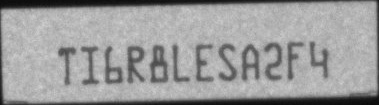2: (262, 39, 283, 81)
4: (310, 41, 329, 80)
6: (102, 45, 123, 85)
8: (150, 43, 168, 82)
A: (242, 42, 260, 81)
E: (195, 43, 215, 82)
F: (287, 38, 303, 81)
I: (81, 44, 99, 84)
L: (172, 43, 190, 82)
R: (127, 45, 146, 83)
S: (218, 42, 237, 82)
T: (57, 47, 75, 86)
